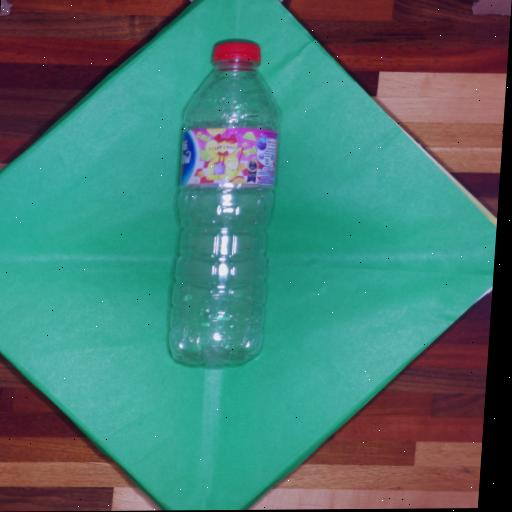bottle: (164, 39, 287, 366)
